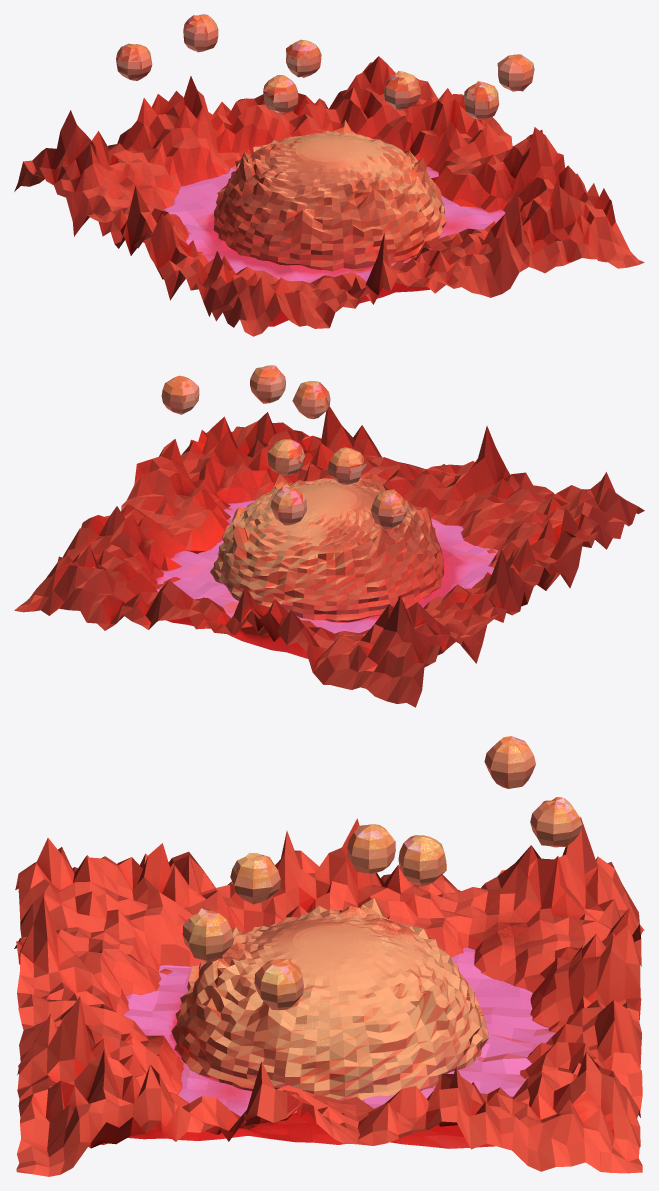
3 views of the same model, one above another, from view 1: azimuth 30°, elevation 25°; view 2: azimuth 150°, elevation 25°; view 3: azimuth 270°, elevation 25° (orthographic). The views are drawn at different scales.
Parts seen in each view (by area): view 1: Mountain, Land, S6, Water; view 2: Mountain, Land, S6, Water; view 3: Mountain, Land, Water, S6.
Boxes of the visible parts, x1=… form: Mountain: x1=14, y1=56, x2=644, y2=336; Land: x1=213, y1=120, x2=446, y2=271; S6: x1=116, y1=14, x2=534, y2=120; Water: x1=143, y1=158, x2=505, y2=326; Mountain: x1=14, y1=406, x2=644, y2=707; Land: x1=210, y1=472, x2=443, y2=622; S6: x1=161, y1=365, x2=407, y2=529; Water: x1=155, y1=500, x2=498, y2=658; Mountain: x1=14, y1=817, x2=644, y2=1176; Land: x1=171, y1=898, x2=488, y2=1100; Water: x1=101, y1=947, x2=556, y2=1148; S6: x1=182, y1=736, x2=582, y2=1010.
Size of the model in its own units: 20.24 by 20.31 by 8.
Materials: 4 (4 with a texture image).
